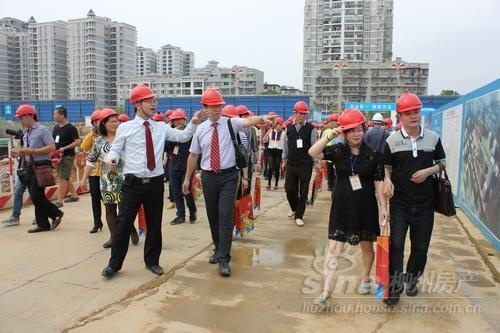none: (51, 105, 68, 123)
red: (338, 105, 368, 146), (394, 91, 426, 129), (129, 83, 158, 118), (199, 86, 224, 119), (15, 103, 38, 129), (98, 107, 119, 133), (168, 105, 187, 129), (292, 99, 310, 122), (330, 112, 340, 127), (273, 116, 283, 129)
white: (371, 112, 384, 127)
